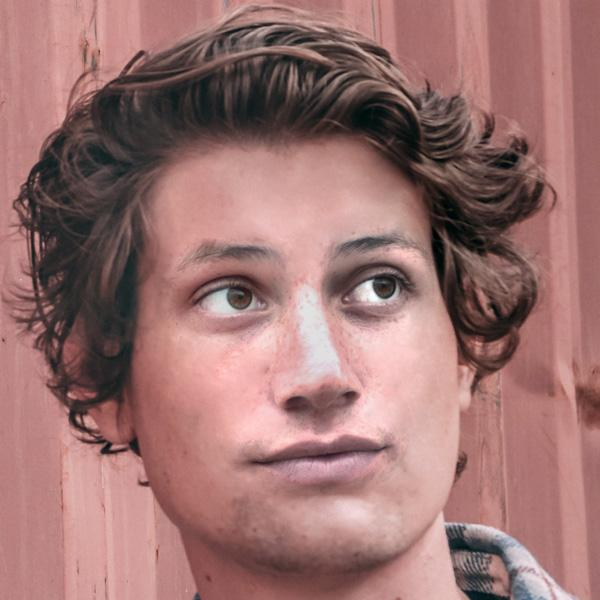Eyes: (178, 264, 275, 332), (331, 255, 419, 318)
